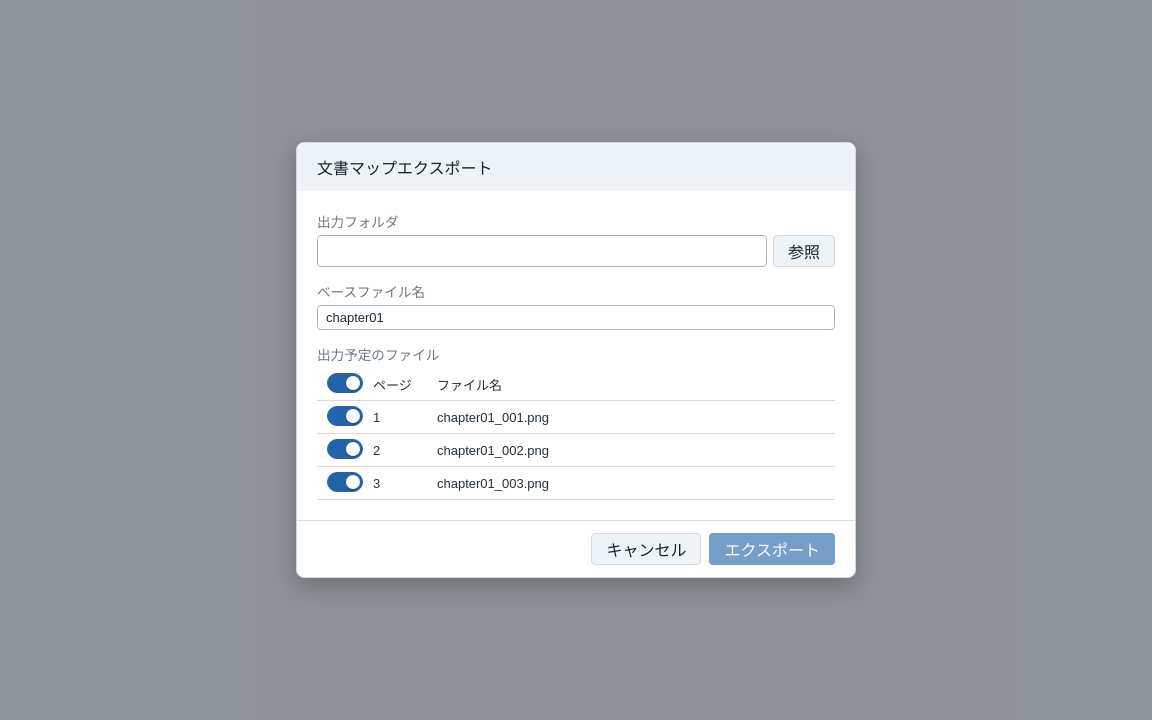
Test: DocumentMapPngExportDialog (#537) › writes all output-enabled rows once the user confirms overwrite
Step 1. Click the button "参照" → x=804, y=251, box 773,235 -> 835,267
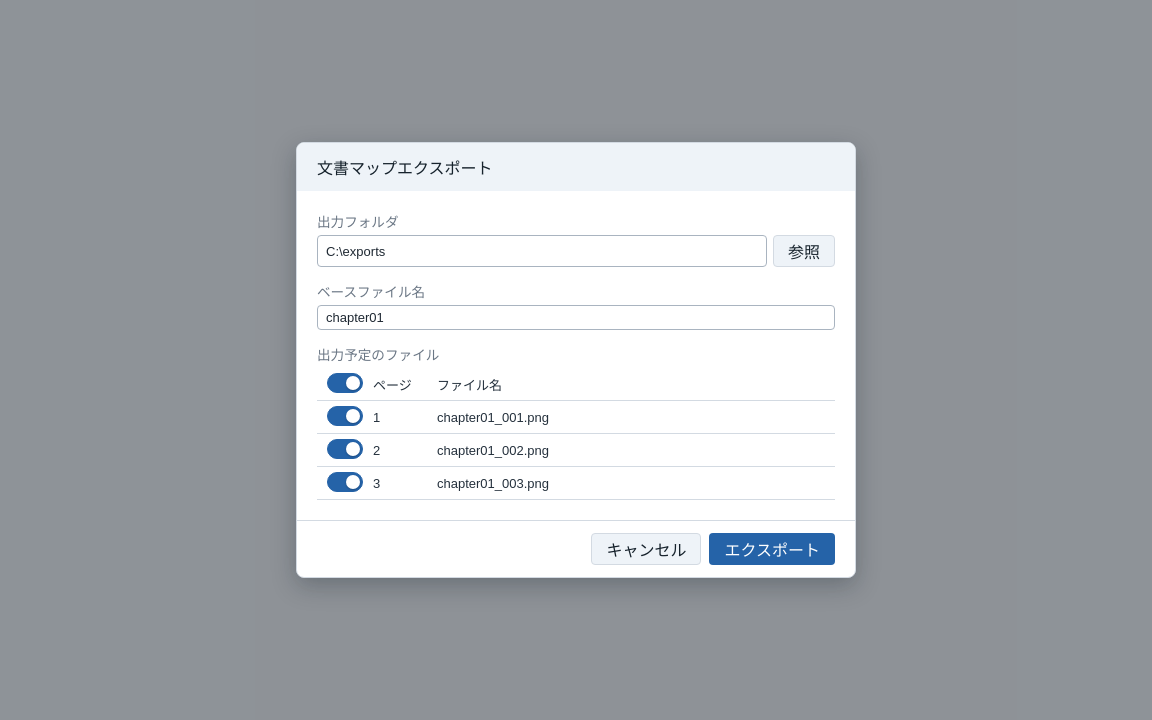
Step 2. Click the button "エクスポート" → x=772, y=549, box 710,533 -> 835,565
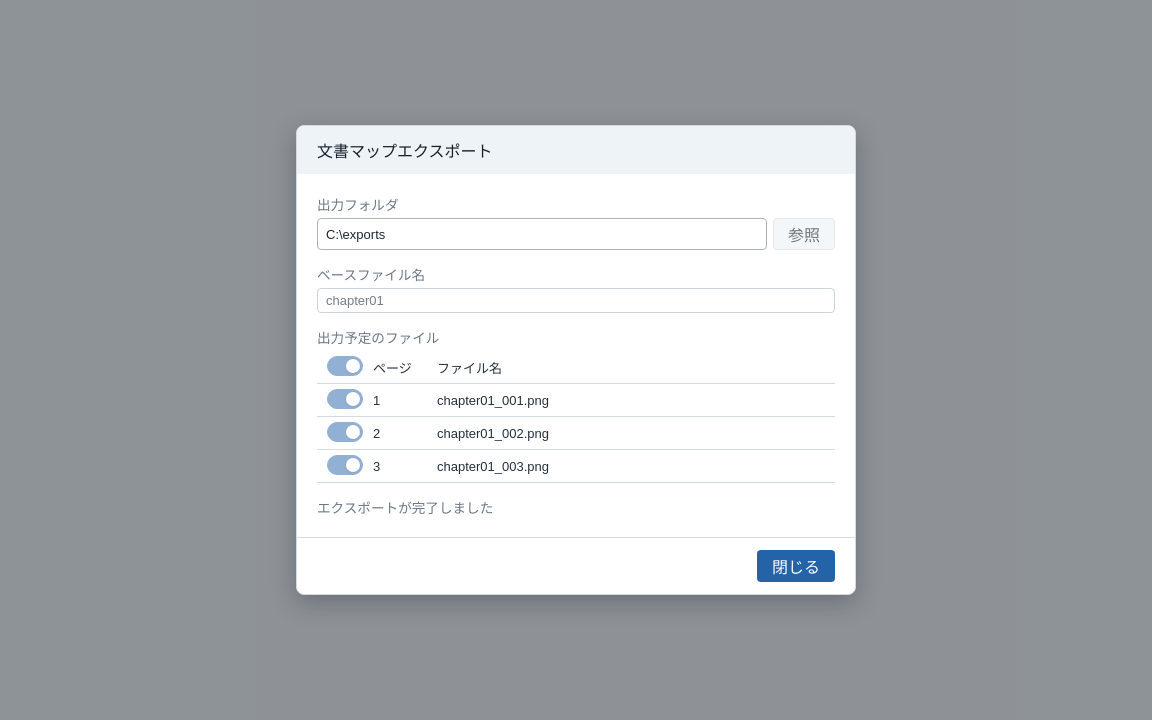
Expected: the button "閉じる" is shown, 757,550 -> 835,582
